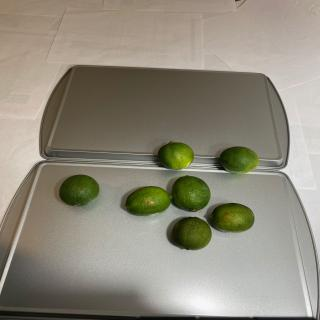Lemon: (172, 175, 211, 212), (124, 186, 172, 216), (59, 174, 100, 207), (210, 203, 255, 233), (172, 217, 212, 250), (219, 146, 259, 174), (157, 141, 194, 170)
